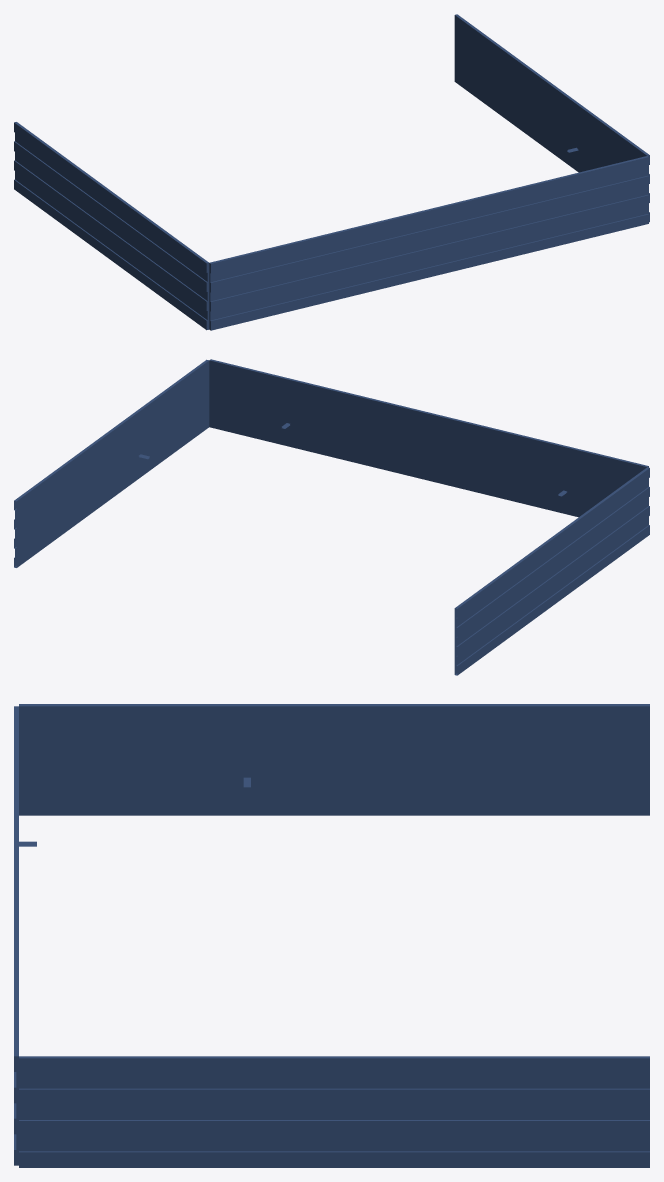
File: p-44-entrance-roof-shield.fbx
3 views of the same model, one above another, from view 1: azimuth 30°, elevation 25°; view 2: azimuth 150°, elevation 25°; view 3: azimuth 270°, elevation 25° (orthographic). The views are drawn at different scales.
Parts seen in each view (by area): view 1: entrance-shield; view 2: entrance-shield; view 3: entrance-shield.
Boxes of the visible parts, x1,y1,x2,y2 form: entrance-shield: (14, 14, 649, 330); entrance-shield: (14, 359, 649, 675); entrance-shield: (14, 704, 649, 1167).
Bounding box in the file's own units: 680 × 97.99 × 516.
